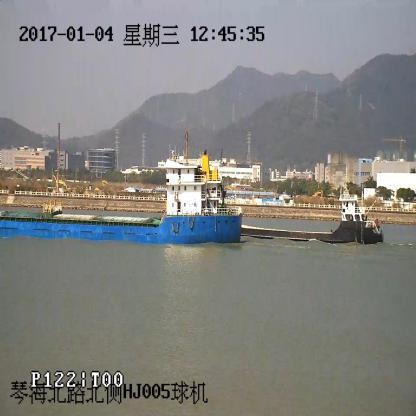Bulk Carrier: (0, 152, 242, 244), (239, 185, 383, 245)
